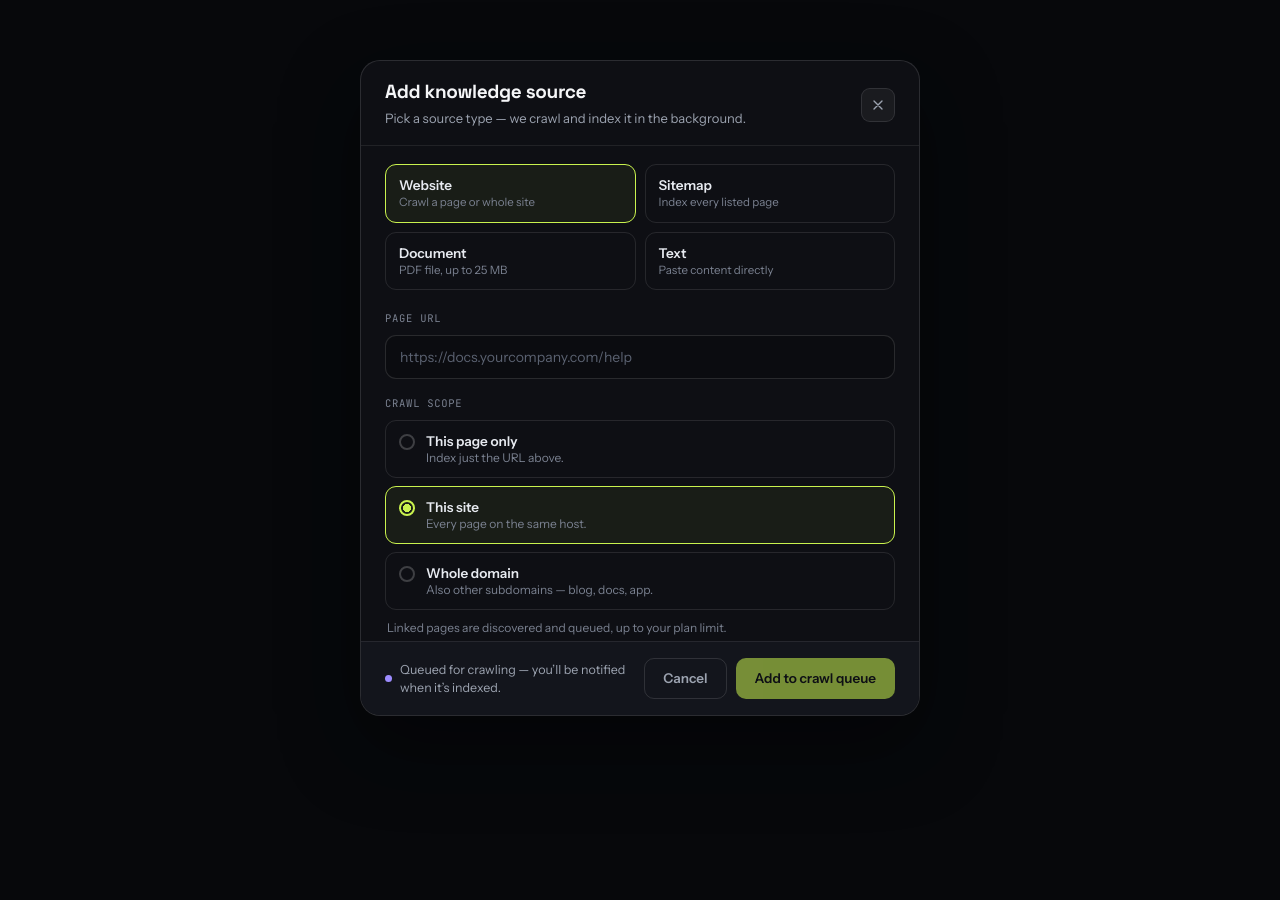
Test: KnowledgeAddSourceModal crawl scope › names the section when the URL has a path
Type "https://help.example.com/hc/en" into the field with id "kb-add-url".
click(640, 357); type("https://help.example.com/hc/en")  # box 385,335 -> 895,379
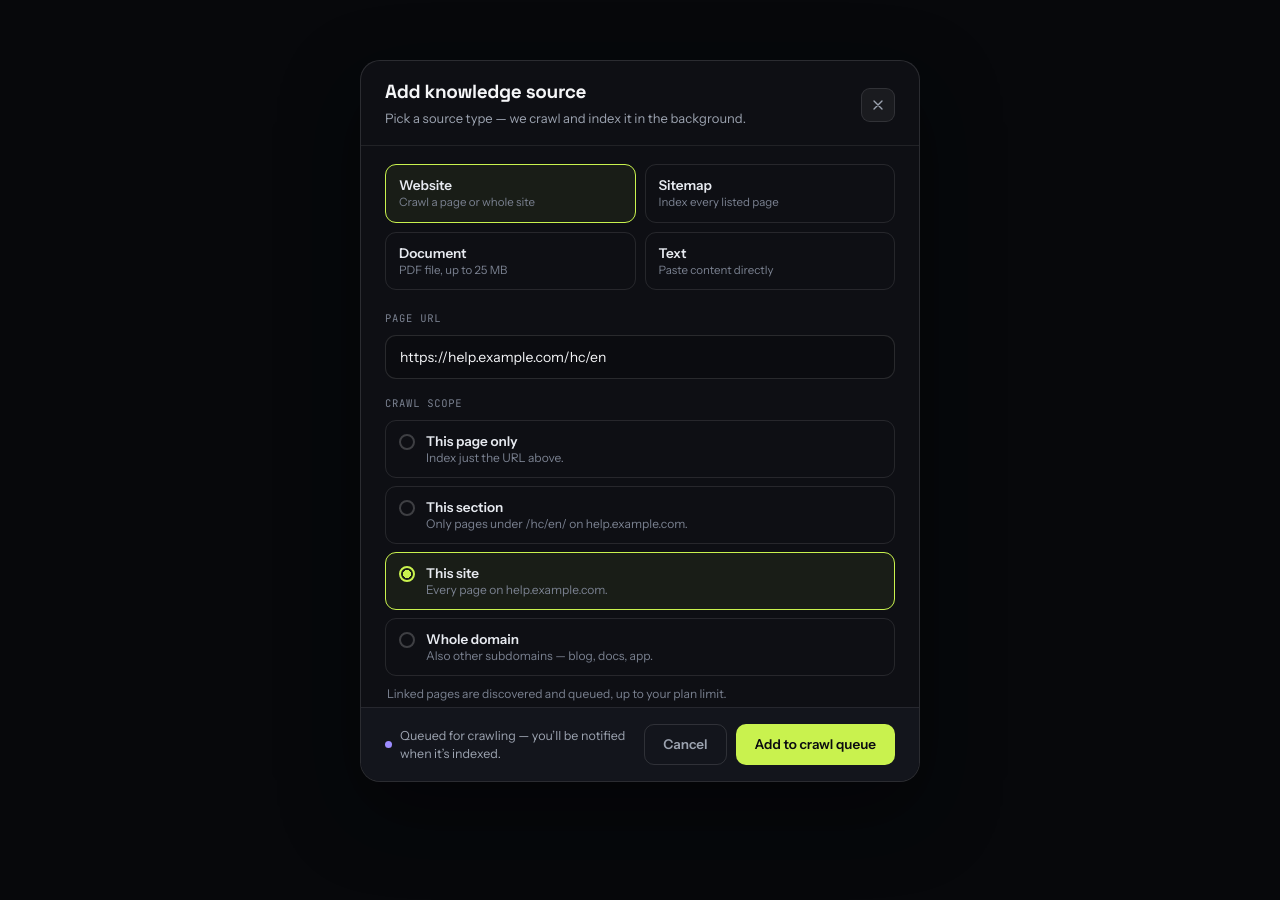
Expected: the text "This section" is shown, 426,499 -> 503,515
Expected: the button "This section Only pages under /hc/en/ on help.example.com." is shown, 385,486 -> 895,544
